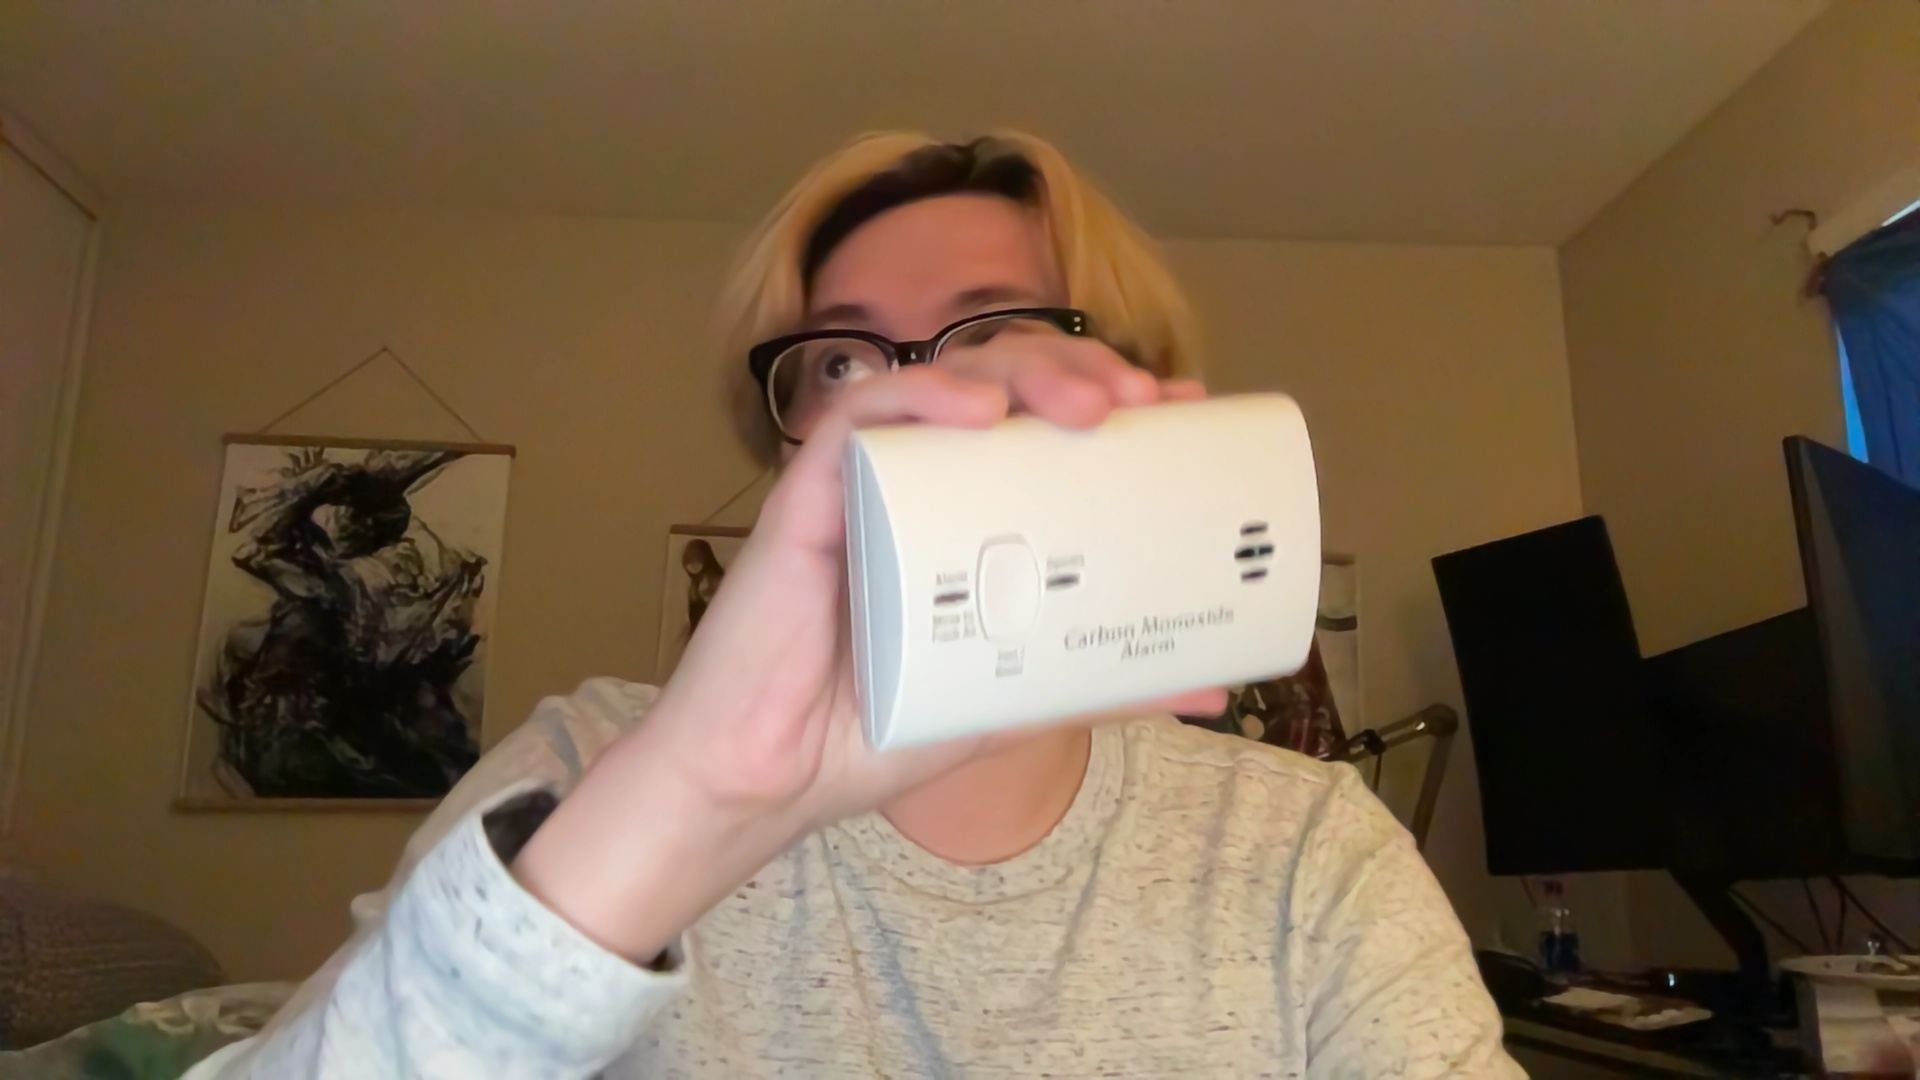carbonmonitor: (828, 386, 1325, 760)
